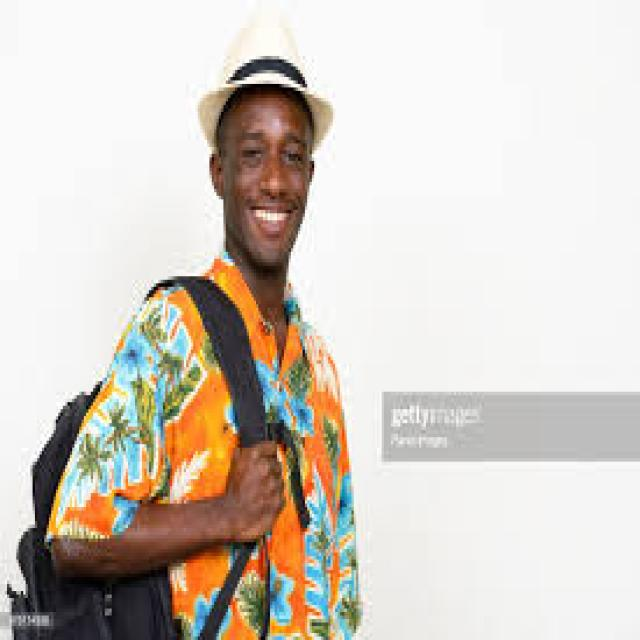hat: (195, 17, 338, 273)
